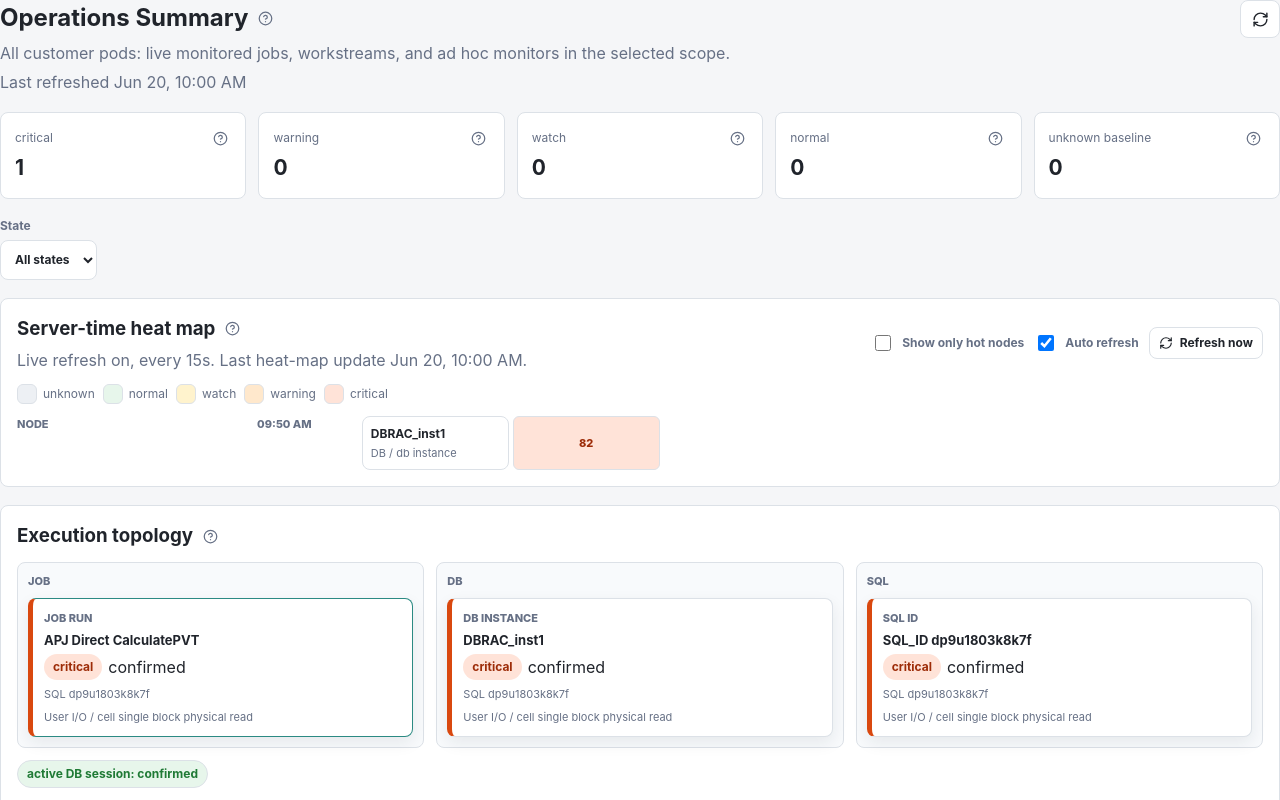
Scenario: frontend smoke › renders dashboard runtime topology and server-time heat map
This screenshot has width=1280, height=800.
expect the heading "Execution topology" is shown: met, box [17, 522, 221, 550]
expect the heading "Server-time heat map" is shown: met, box [17, 314, 243, 343]
Click the button "82".
click(586, 443)  # box [513, 416, 660, 470]
(page scrolled)
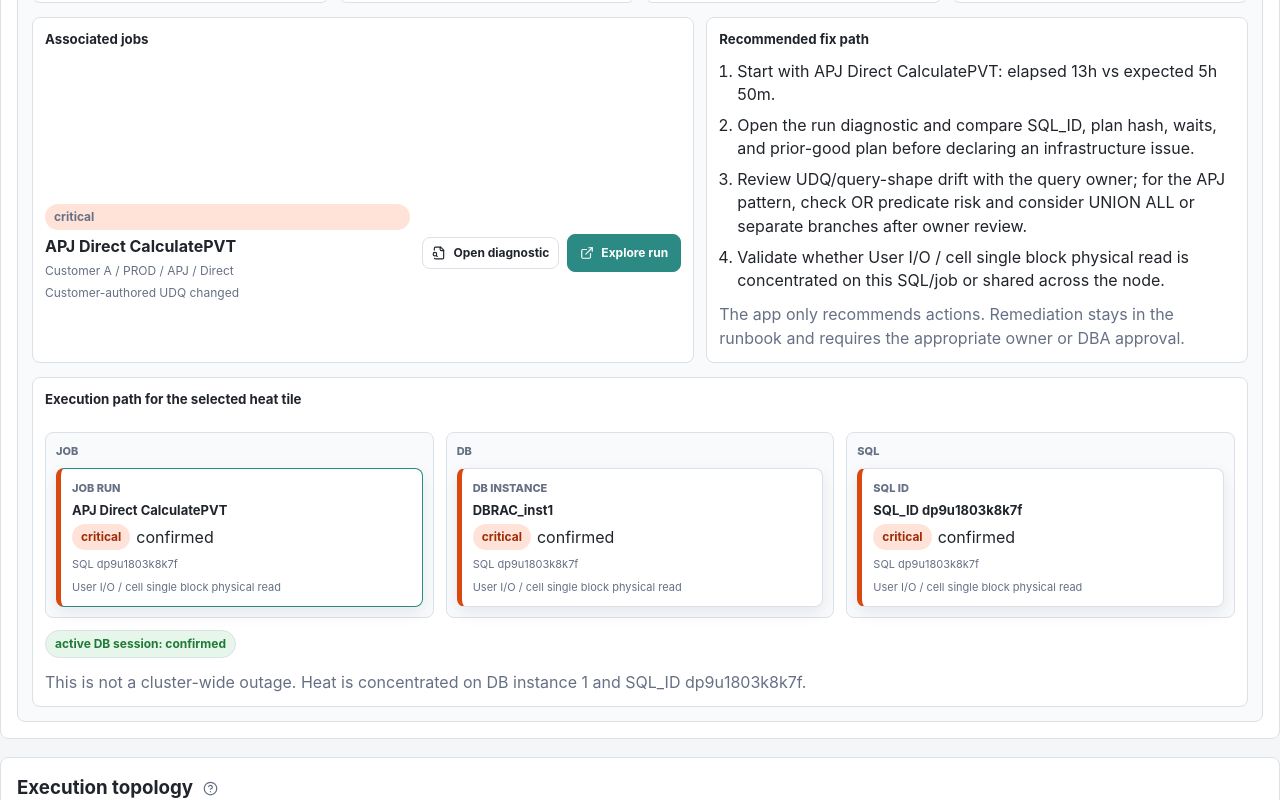
expect the heading "Recommended fix path" is shown: met, box [719, 31, 869, 47]
expect the link "Open diagnostic" is shown: met, box [422, 237, 559, 269]
expect the link "Explore run" is shown: met, box [567, 234, 681, 272]
